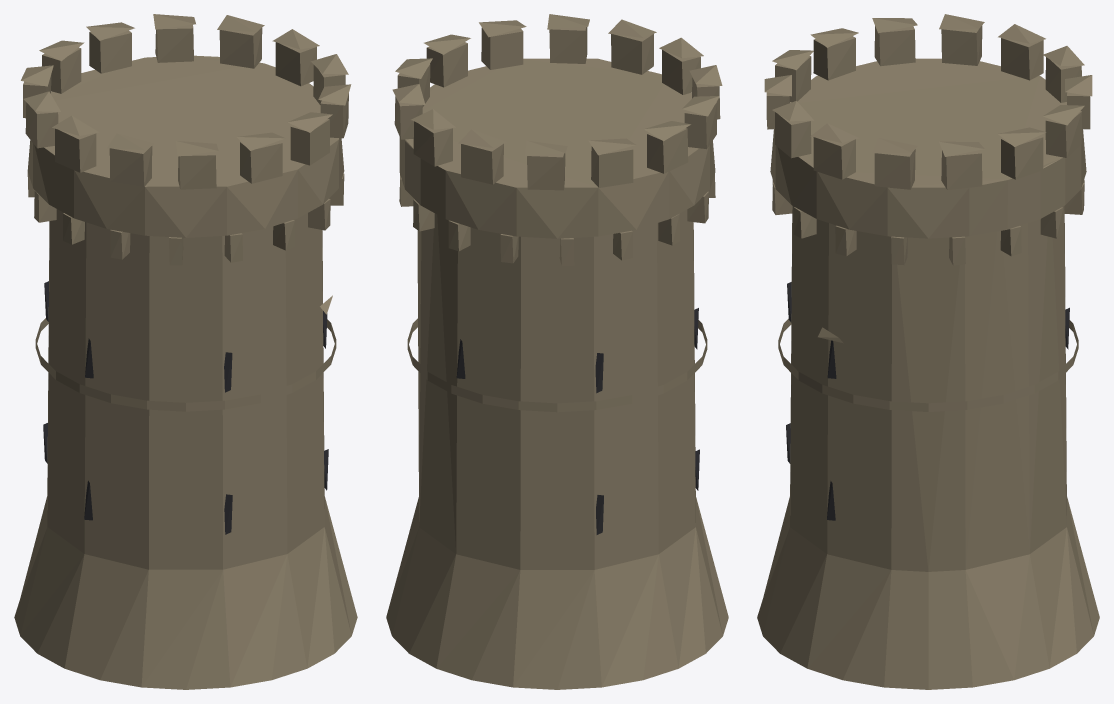
Rendered from castle-tower-lod1.glb.
3 renders of one model, left to right at view 1: azimuth 30°, elevation 25°; view 2: azimuth 150°, elevation 25°; view 3: azimuth 270°, elevation 25°, orthographic.
Size of the model in its own units: 8.78 by 15.1 by 8.78.
